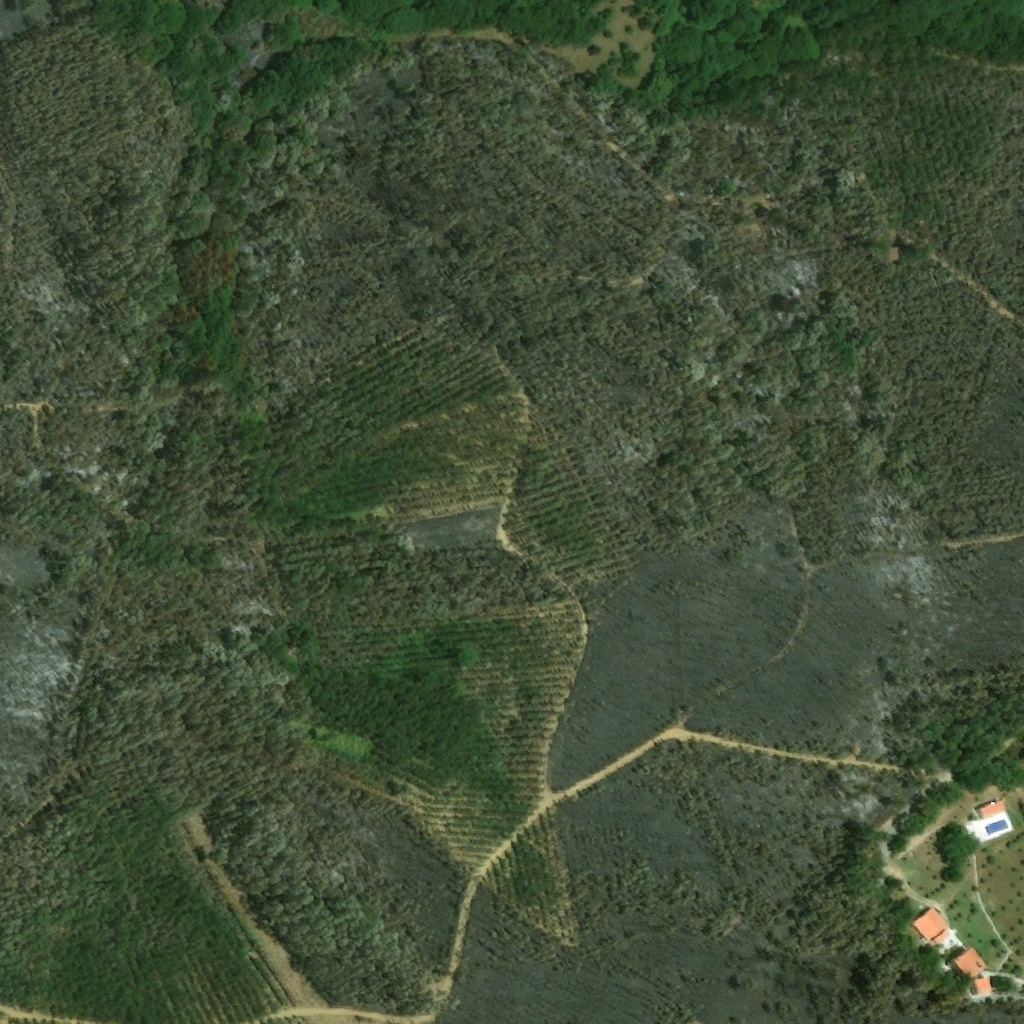0 no-damage: (909, 907, 948, 948), (948, 946, 987, 982), (976, 799, 1006, 822), (972, 977, 992, 994)
